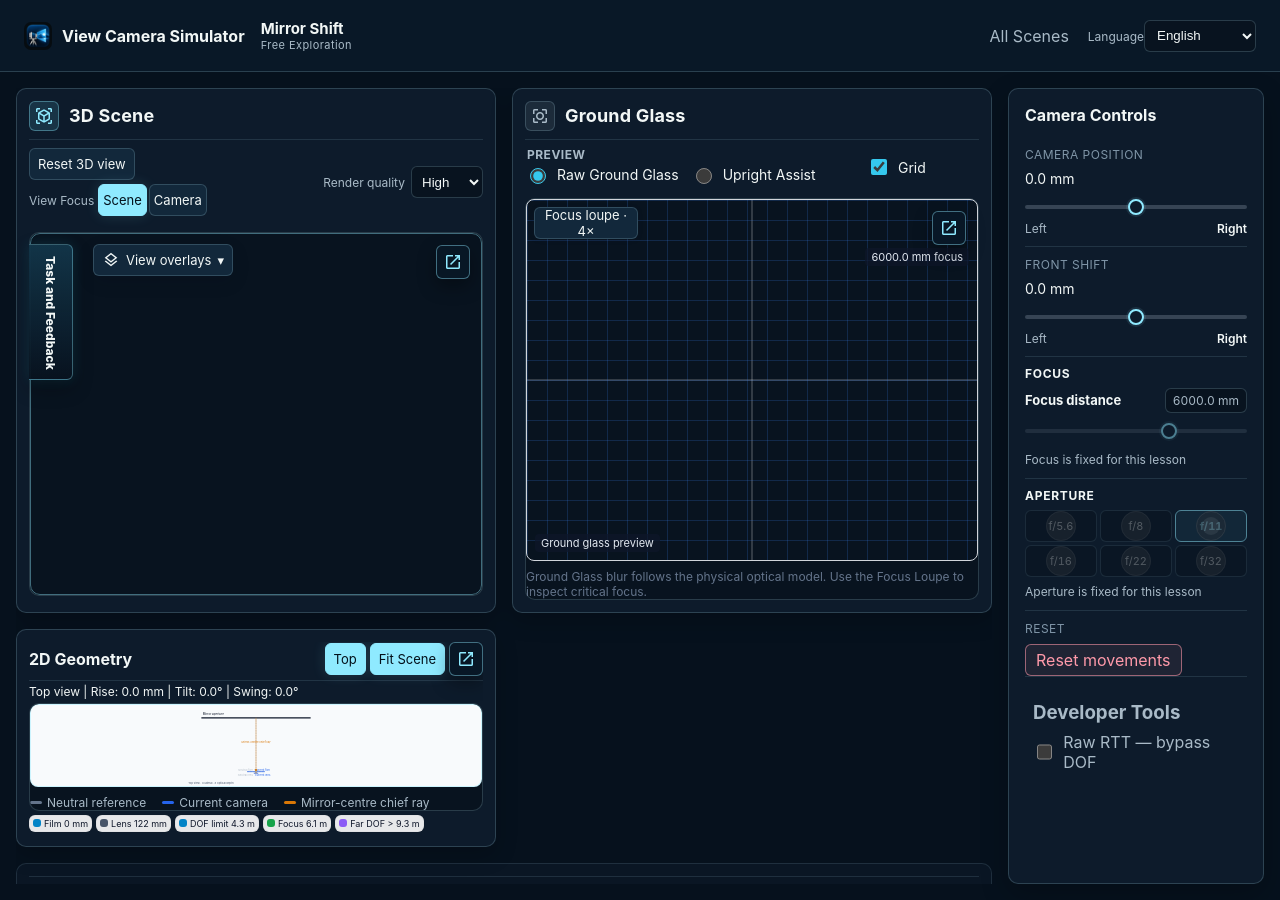
Test case: simulator header › localizes scene-specific Mirror Shift controls and teaching geometry
Expected: the slider named "Camera Position" is shown, 1025,193 -> 1247,221
Expected: the slider named "Front Shift" is shown, 1025,303 -> 1247,331
Click the button named "Expand 2D Geometry" at (466, 659), box 449,642 -> 483,676
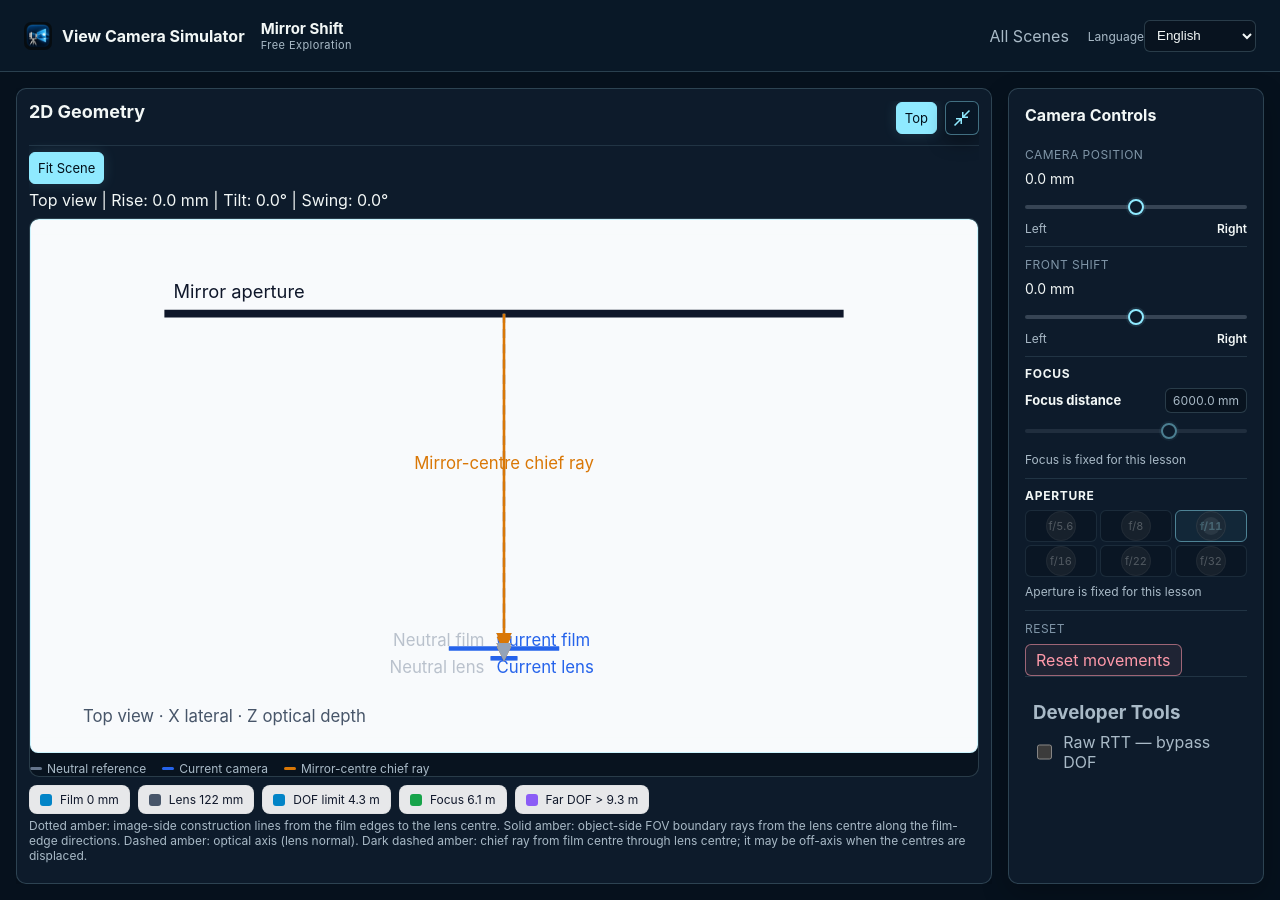
Expected: the picture named "Mirror Shift top-view teaching geometry" is shown, 30,219 -> 978,753
Select "繁體中文" in the dropdown labelled "Language" at (1200, 36), box 1144,20 -> 1256,52
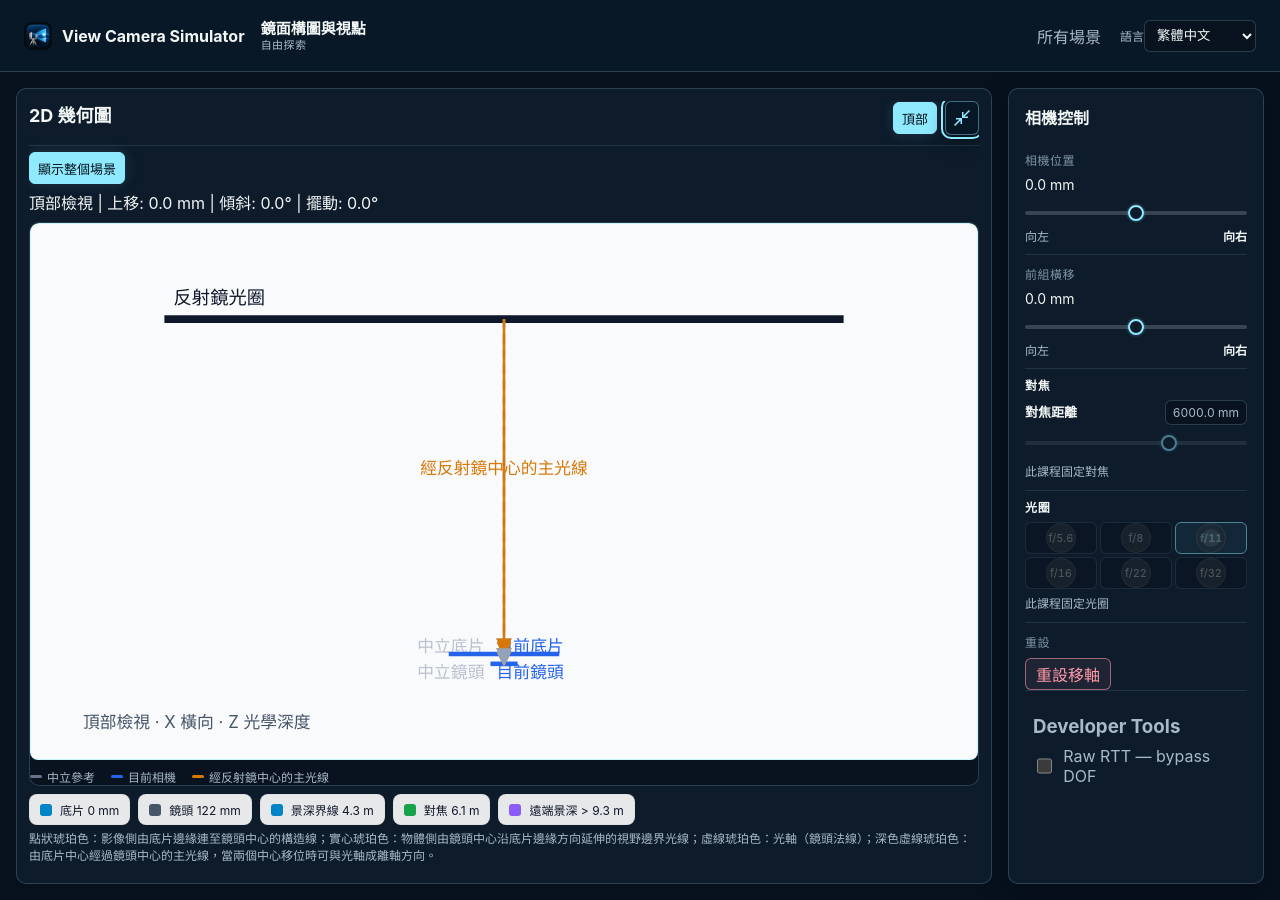
Now the slider named "相機位置" is shown, box 1025,199 -> 1247,227
Now the slider named "前組橫移" is shown, box 1025,313 -> 1247,341
Now the picture named "反射鏡橫移頂部檢視教學幾何圖" is shown, box 30,223 -> 978,760
